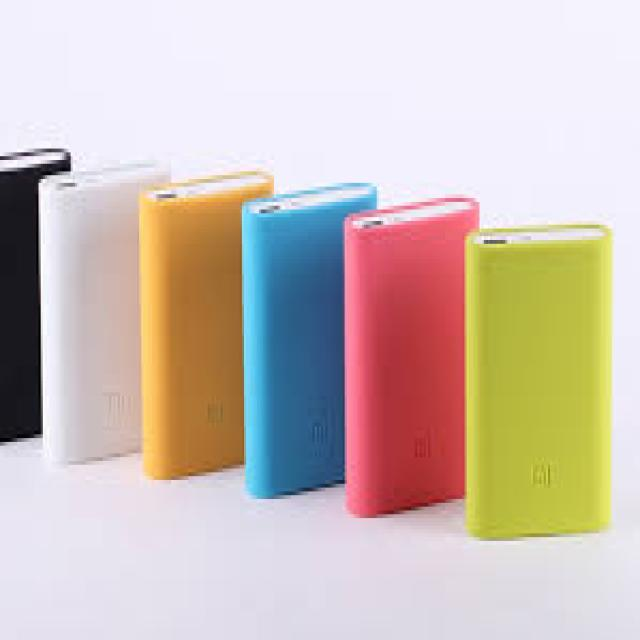portable-charger: (35, 164, 188, 474), (239, 177, 382, 506), (344, 193, 482, 528), (465, 232, 610, 542), (136, 177, 268, 479), (0, 133, 72, 449)
